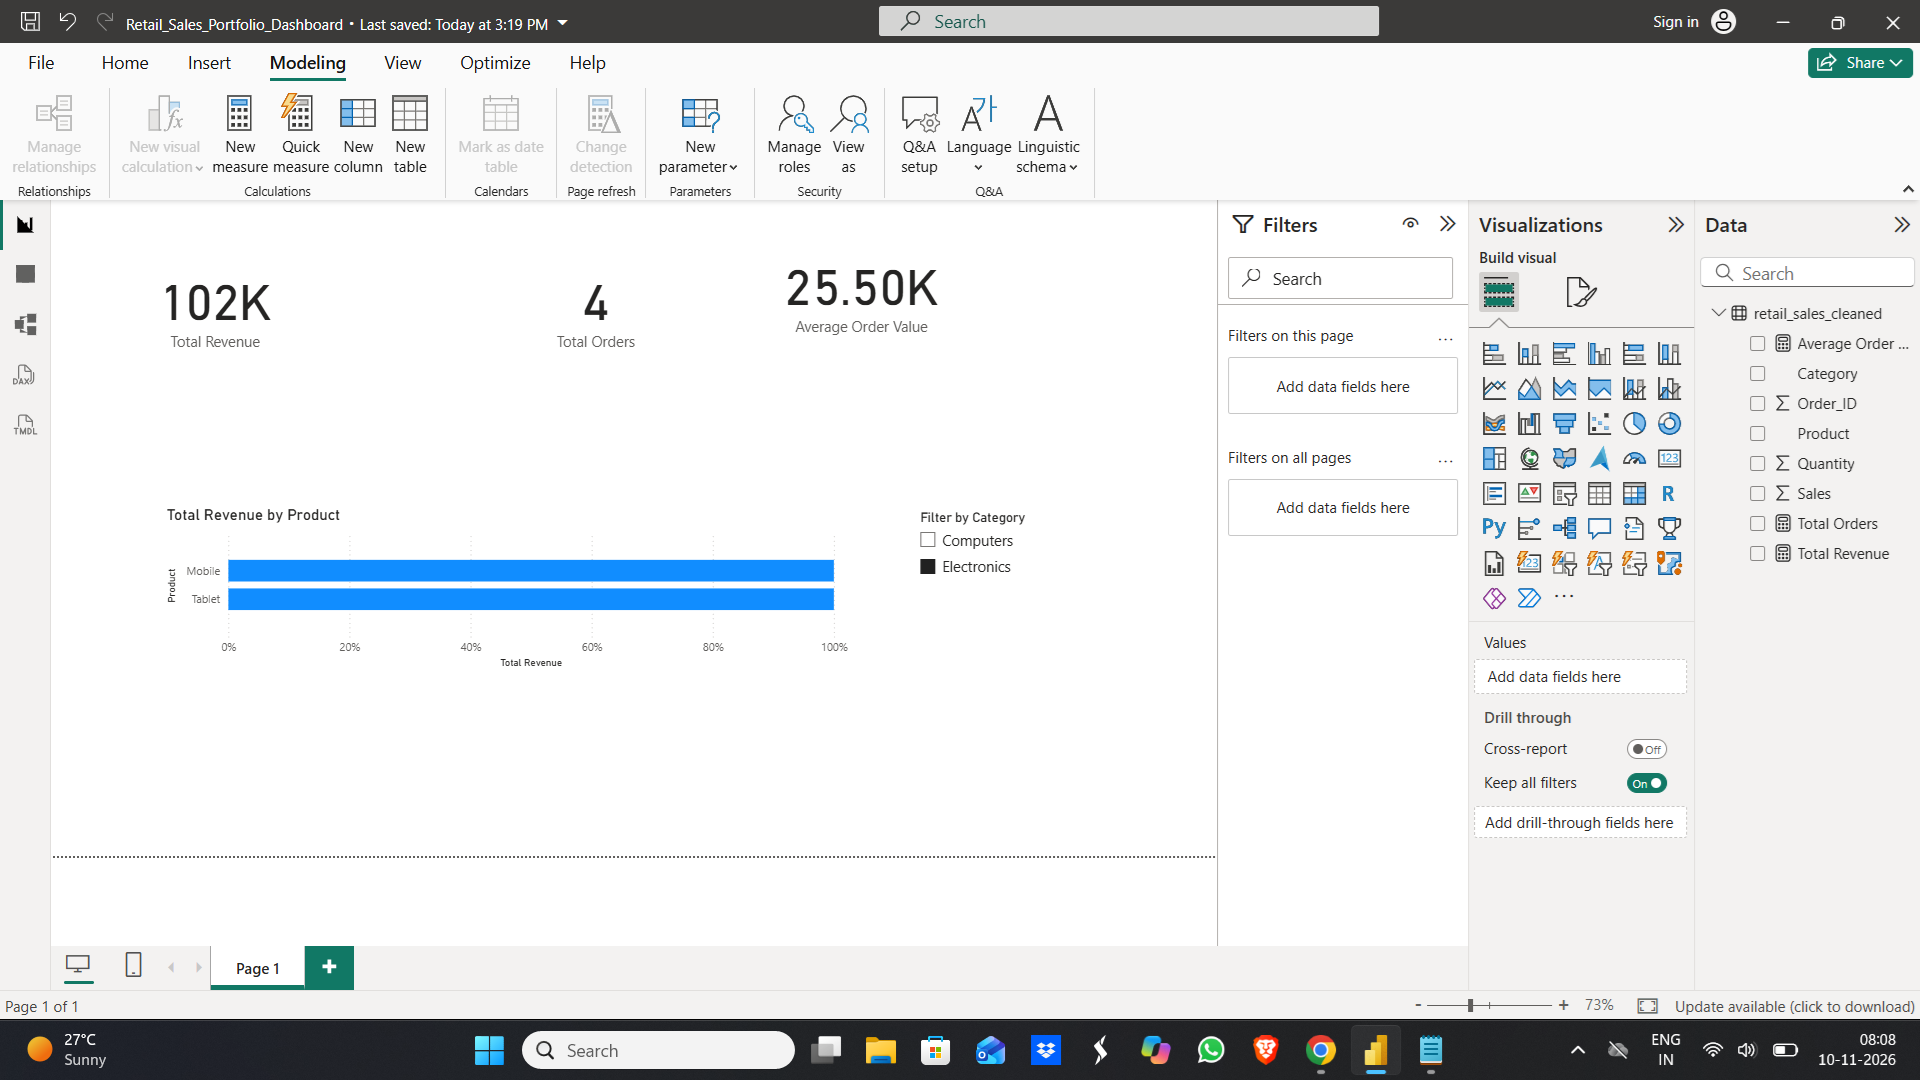

Layout of this report page (visuals, bound fields, positions):
{"tool":"powerbi","page":{"name":"Page 1","canvas":[1280,720],"ordinal":0},"visuals":[{"type":"card","fields":{"Values":["retail_sales_cleaned.Total Revenue"]},"box":[48,24.7,264.8,183.9],"z":0},{"type":"card","fields":{"Values":["retail_sales_cleaned.Total Orders"]},"box":[488.5,32.9,219.6,167.4],"z":1},{"type":"card","fields":{"Values":["retail_sales_cleaned.Average Order Value"]},"box":[749.2,24.7,281.3,150.9],"z":2},{"type":"hundredPercentStackedBarChart","fields":{"Category":["retail_sales_cleaned.Product"],"Y":["retail_sales_cleaned.Total Revenue"]},"box":[122.1,334.8,757.5,183.9],"z":3},{"type":"slicer","fields":{"Values":["retail_sales_cleaned.Category"]},"box":[941.3,334.8,338.9,183.9],"z":4}]}

Visuals, with their boxes on the page's 1280x720 design canvas (x1, y1, x2, y2). These are canvas units, not pixel positions in the 1920x1080 screenshot, which may show the page scaled, cropped or inside an application window:
card - retail_sales_cleaned.Total Revenue: bbox=(48, 25, 313, 209)
card - retail_sales_cleaned.Total Orders: bbox=(488, 33, 708, 200)
card - retail_sales_cleaned.Average Order Value: bbox=(749, 25, 1030, 176)
hundredPercentStackedBarChart - retail_sales_cleaned.Product x retail_sales_cleaned.Total Revenue: bbox=(122, 335, 880, 519)
slicer - retail_sales_cleaned.Category: bbox=(941, 335, 1280, 519)
